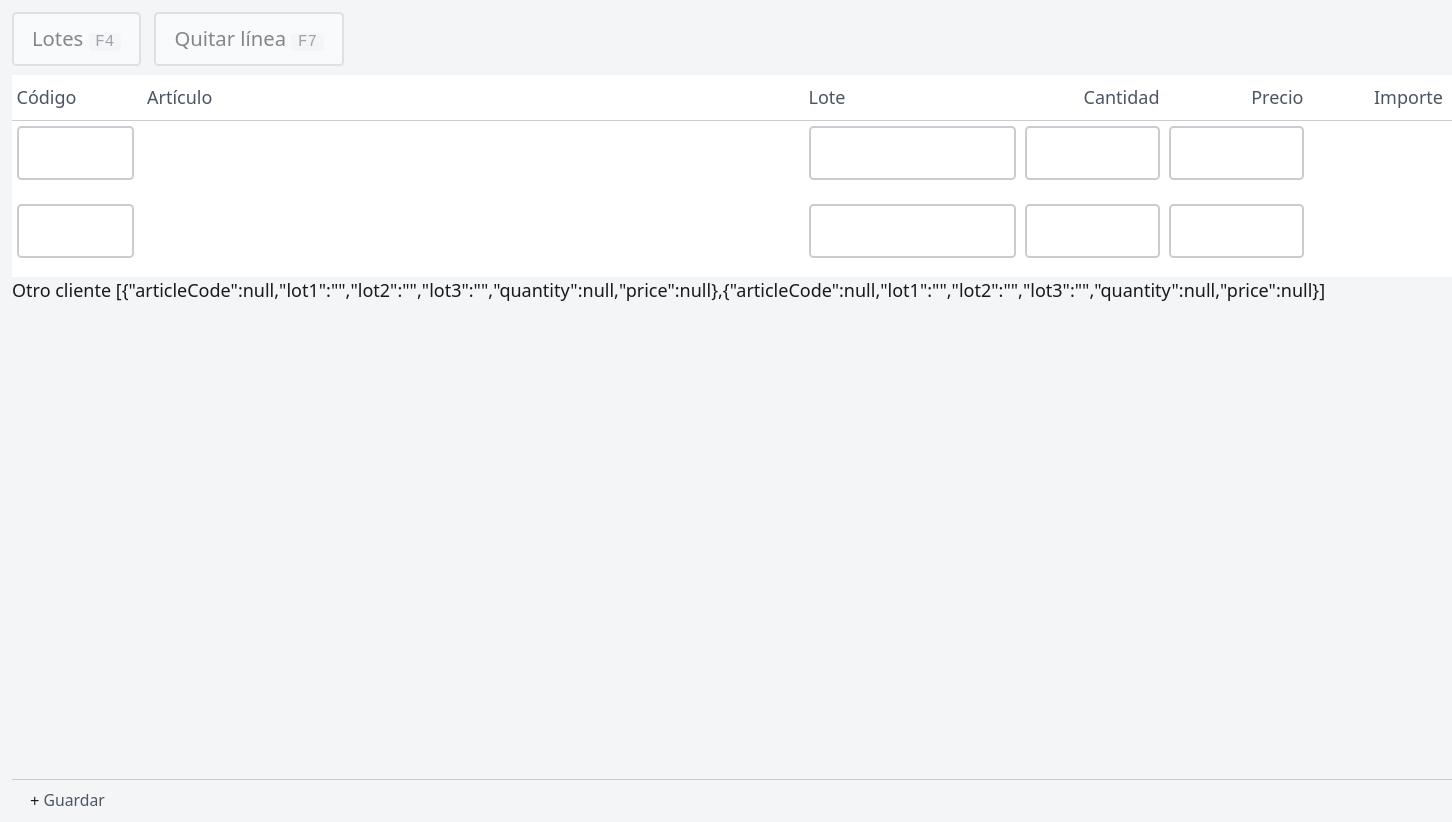
Test: LinesGrid › Enter walks code → lot → quantity → price, then the next line's code
Click the 1st field named "Código" at (75,152), box [16,126,134,180]
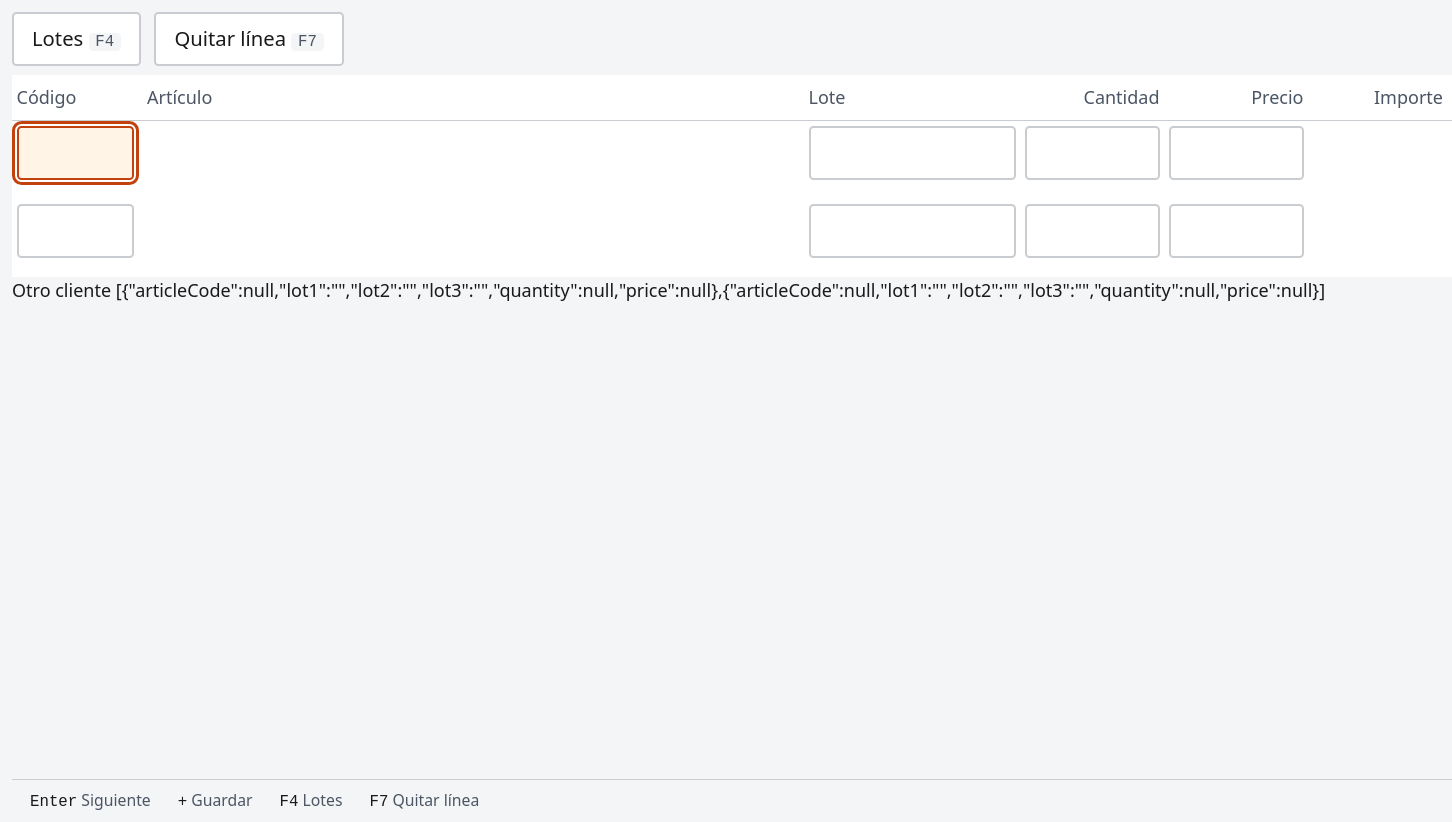
Type keys "12{Enter}"
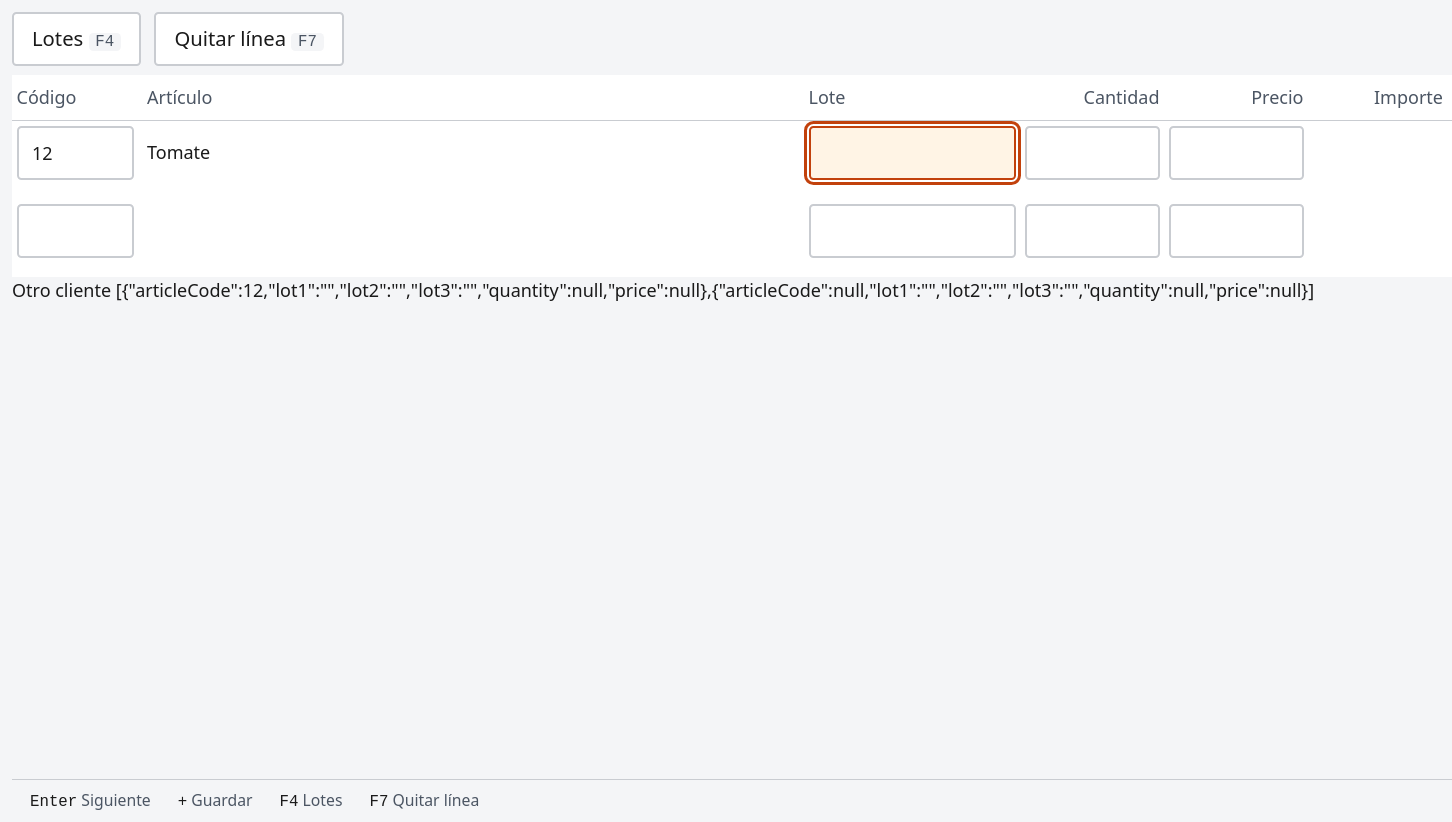
Type keys "01181026{Enter}"
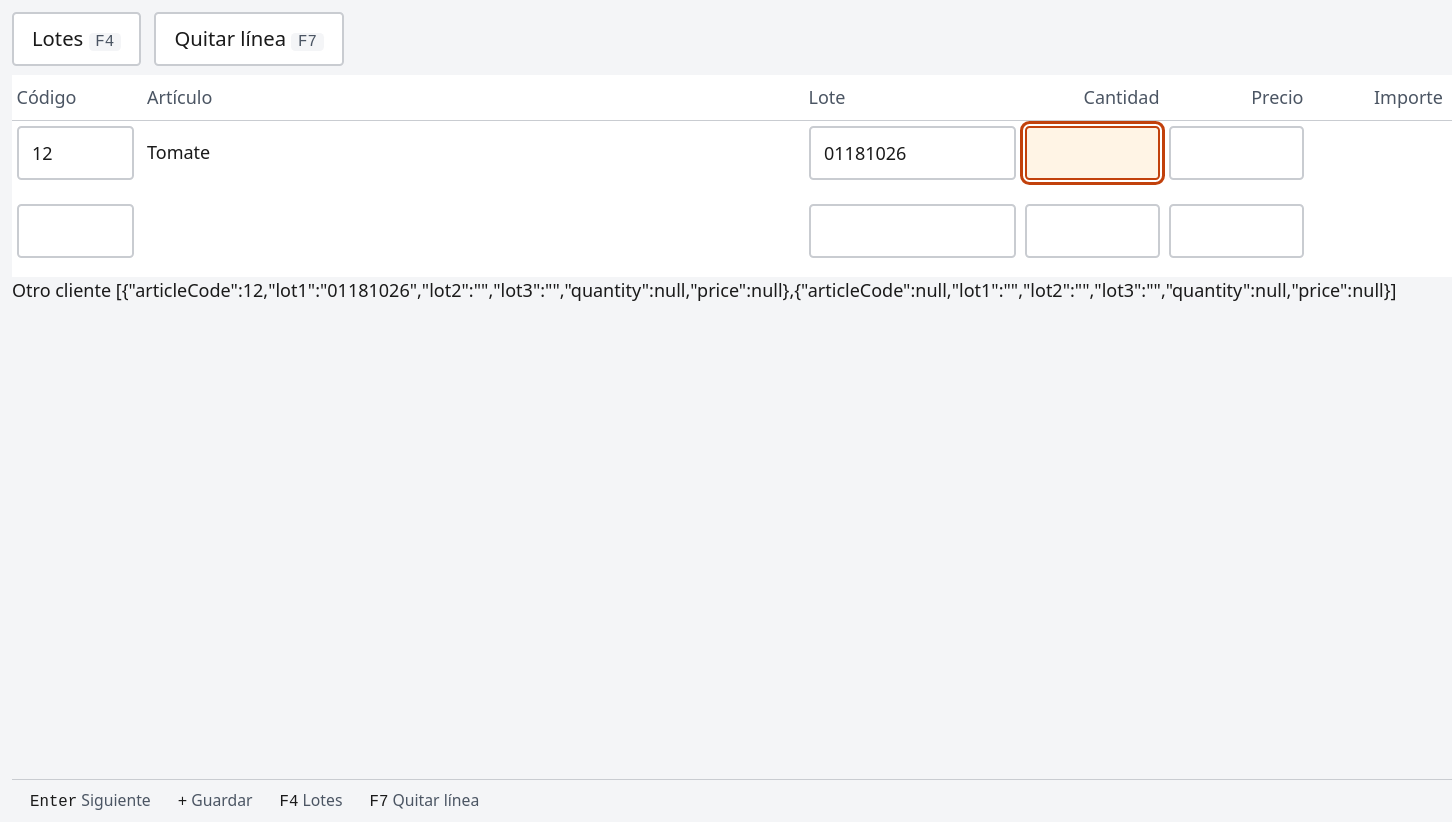
Type keys "25{Enter}"
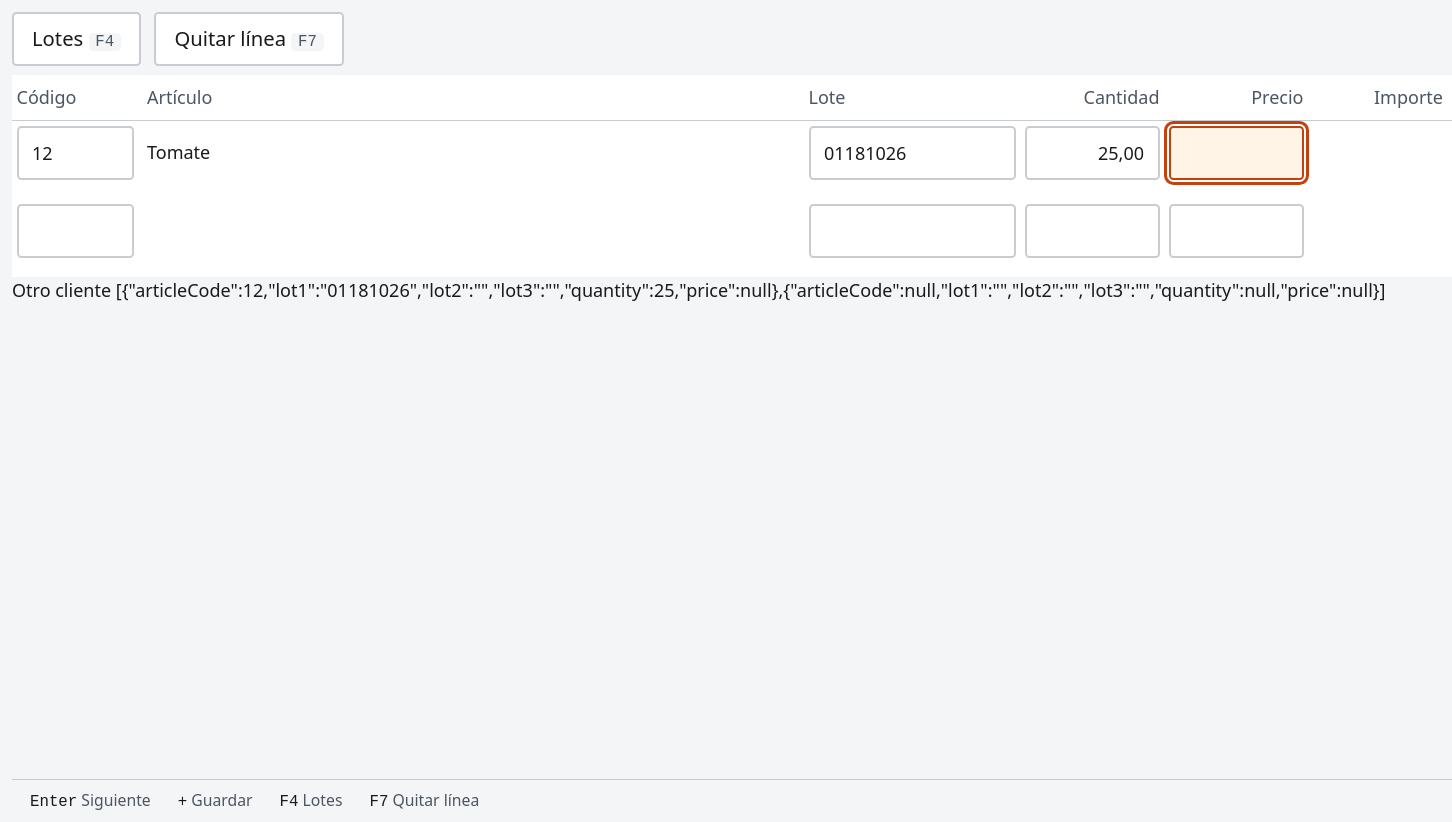
Type keys "1,2{Enter}"
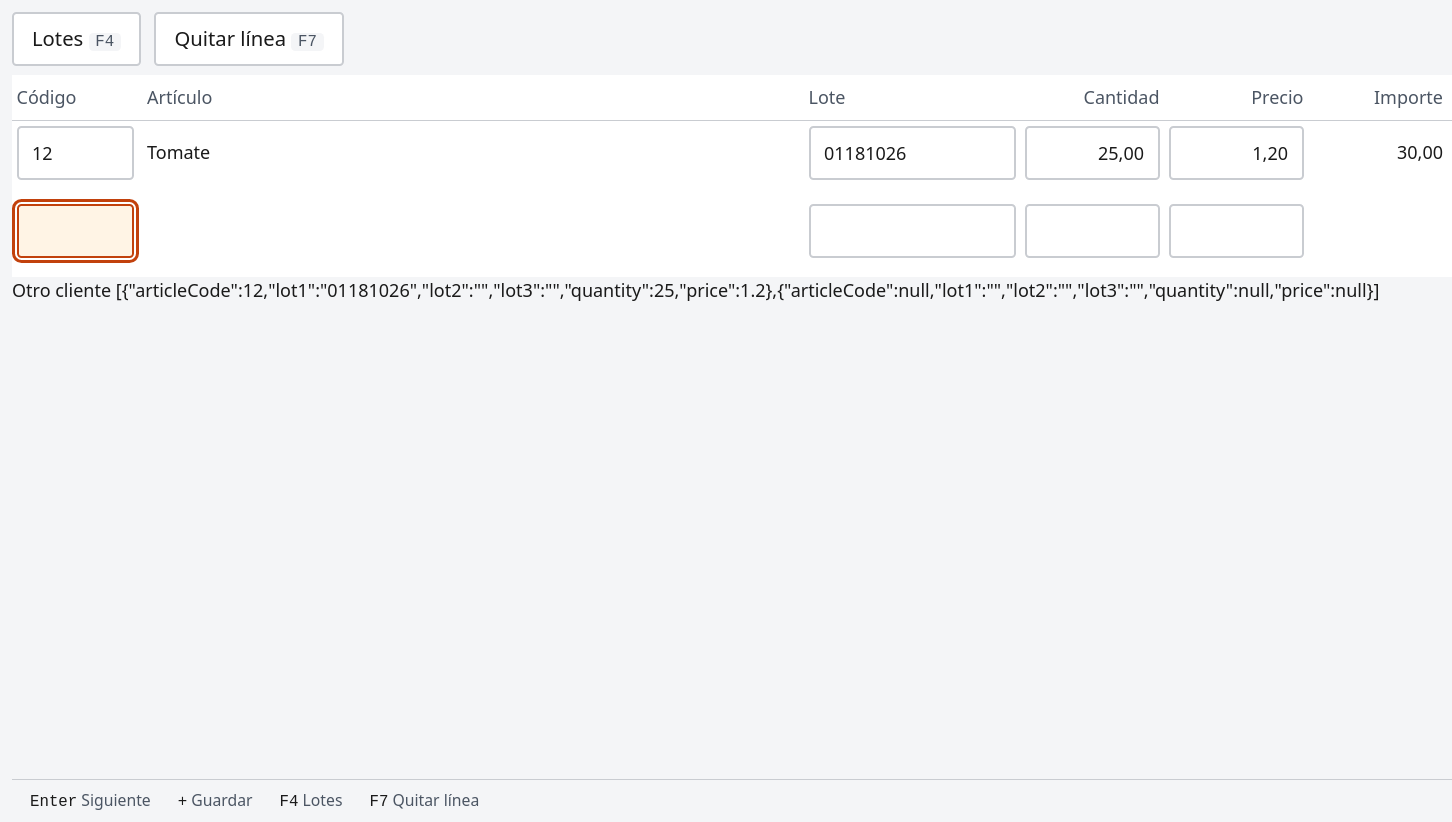
Now the cell "30,00" is shown, box [1308,121,1451,199]
